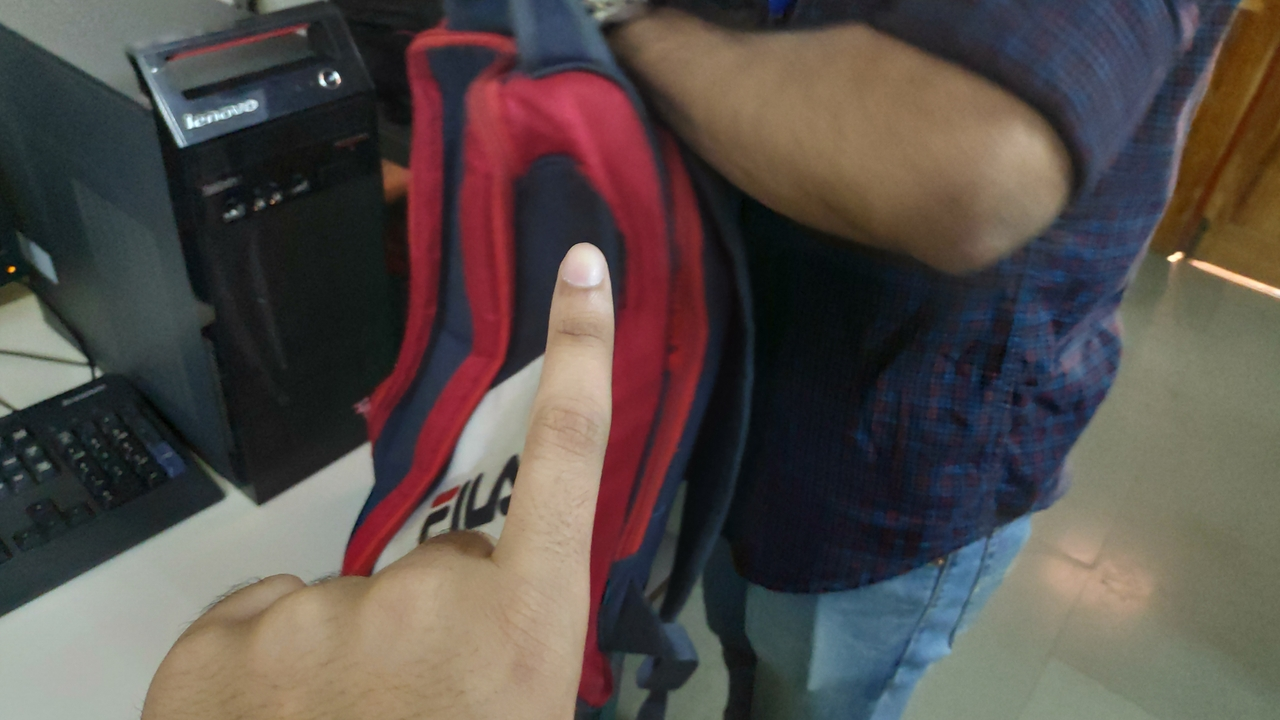fingertip: (550, 240, 610, 306)
